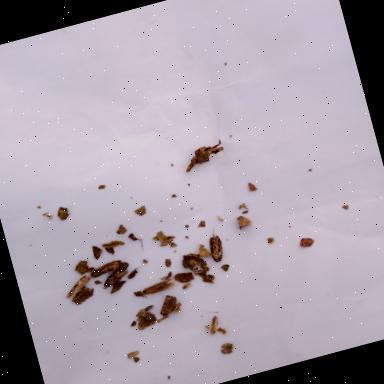pbw: (100, 262, 136, 294), (86, 257, 124, 279), (60, 272, 92, 298), (141, 276, 176, 298), (205, 234, 227, 262)
